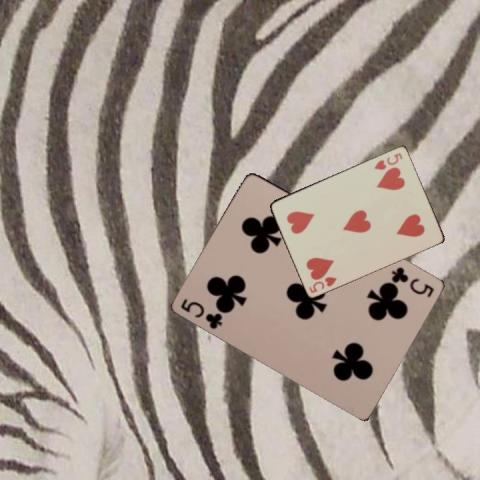5c: (389, 264, 436, 300), (178, 295, 225, 331)
5h: (371, 150, 404, 171), (306, 273, 339, 294)
